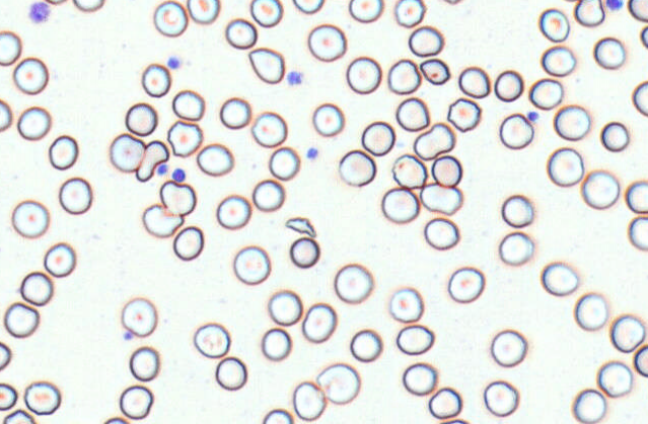PLT: (29, 2, 52, 25), (287, 69, 305, 87), (167, 56, 182, 72), (605, 0, 624, 12), (171, 168, 186, 183), (306, 147, 319, 161), (527, 111, 542, 123), (156, 164, 170, 175), (122, 332, 133, 342)
RBC: (316, 362, 360, 404), (333, 262, 373, 304), (581, 169, 620, 209), (546, 146, 584, 187), (307, 23, 346, 62), (233, 245, 271, 285), (11, 199, 49, 238), (301, 302, 337, 343), (121, 296, 157, 337), (109, 132, 145, 172), (419, 182, 462, 215), (490, 329, 527, 367), (338, 149, 376, 186), (292, 380, 326, 421), (447, 266, 484, 303), (12, 56, 48, 94), (381, 187, 419, 223), (159, 180, 196, 216), (597, 360, 633, 397), (3, 301, 39, 338), (483, 380, 519, 417), (193, 322, 230, 358), (248, 47, 284, 84), (553, 104, 590, 140), (610, 314, 645, 352), (540, 261, 578, 296), (23, 380, 61, 415), (346, 56, 381, 94), (391, 153, 427, 189), (251, 111, 287, 147), (267, 289, 302, 326), (499, 112, 534, 149), (153, 0, 188, 37), (574, 292, 608, 330), (58, 176, 92, 214), (388, 286, 423, 322), (196, 142, 233, 176), (216, 194, 251, 229), (446, 97, 481, 132), (19, 270, 53, 306), (498, 231, 534, 265), (361, 120, 395, 156), (387, 58, 421, 94), (395, 324, 434, 355), (572, 388, 606, 423), (119, 384, 153, 419), (395, 96, 429, 131), (17, 105, 51, 140), (423, 217, 459, 250), (402, 362, 437, 395), (43, 242, 76, 277), (528, 77, 563, 110), (172, 225, 204, 261), (408, 25, 444, 57), (428, 386, 462, 419), (349, 328, 382, 362), (252, 178, 285, 212), (124, 102, 157, 136), (129, 345, 160, 381), (215, 356, 247, 390), (268, 146, 300, 180), (171, 89, 205, 121), (312, 102, 344, 136), (540, 45, 575, 76), (48, 134, 78, 170), (224, 17, 257, 49), (501, 194, 533, 227), (219, 96, 251, 129), (593, 36, 625, 69), (538, 8, 569, 42), (141, 62, 171, 97), (458, 66, 490, 98), (431, 154, 462, 187), (261, 327, 291, 361), (289, 236, 320, 268), (493, 69, 523, 102), (249, 0, 283, 27), (600, 121, 629, 152), (394, 0, 425, 27), (186, 0, 220, 24), (574, 0, 605, 26), (348, 0, 383, 22), (0, 30, 21, 66), (625, 179, 647, 213), (627, 215, 647, 250), (632, 80, 647, 116), (3, 408, 35, 423), (0, 382, 17, 410), (262, 408, 293, 423), (633, 344, 647, 377), (292, 0, 324, 14), (628, 0, 648, 22), (0, 98, 12, 131), (72, 0, 104, 12), (0, 341, 11, 370), (103, 416, 128, 423), (640, 25, 647, 48), (439, 418, 470, 423), (43, 0, 67, 5), (442, 0, 463, 5), (561, 0, 581, 2)
Schistocyte: (414, 123, 454, 162), (136, 141, 170, 183), (167, 122, 203, 158), (420, 58, 451, 86), (284, 216, 317, 238)
